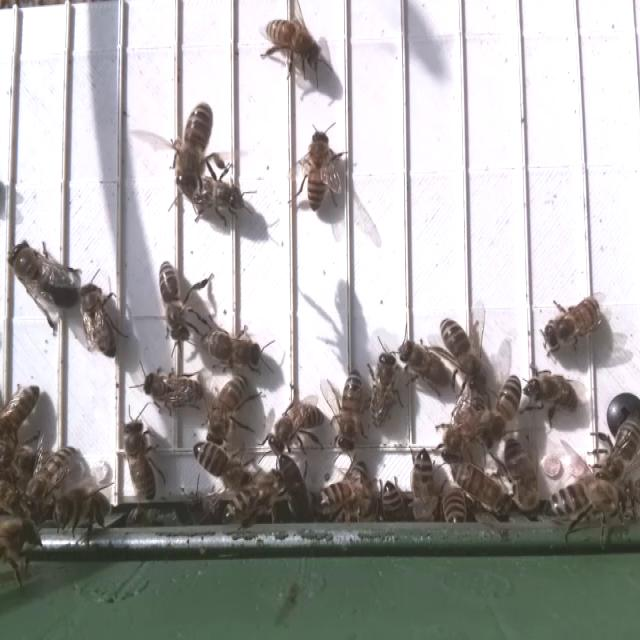Drone: (6, 238, 83, 315)
Worker: (438, 314, 493, 394), (171, 101, 213, 197), (26, 442, 81, 506), (540, 300, 606, 353), (260, 15, 323, 70), (265, 400, 328, 455), (206, 370, 252, 445), (156, 256, 194, 346), (78, 279, 119, 358), (482, 370, 524, 446), (192, 439, 250, 492), (198, 326, 262, 374), (122, 416, 157, 503), (334, 366, 366, 458), (366, 351, 402, 432), (141, 367, 207, 411), (399, 336, 449, 394), (523, 368, 580, 417), (303, 125, 334, 215)
